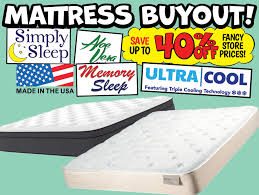bed-matress: (66, 107, 259, 195), (1, 95, 177, 157)
